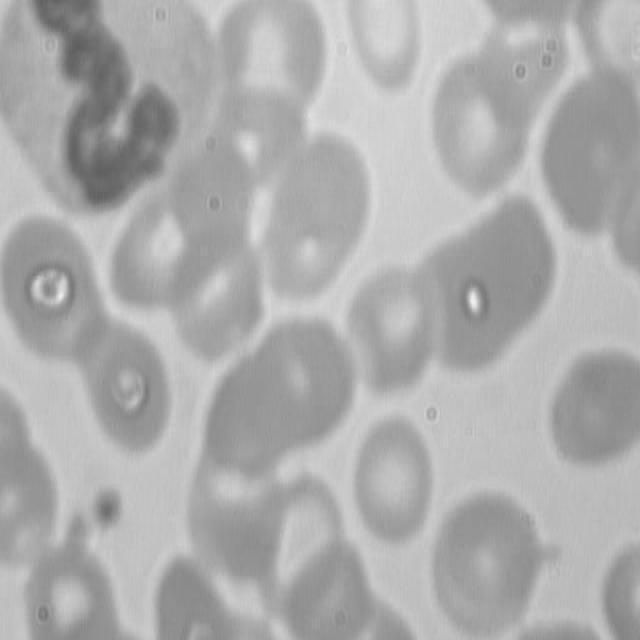Platelets: (90, 481, 128, 535)
RBC: (426, 477, 560, 639), (0, 215, 119, 376), (414, 57, 539, 208), (211, 0, 334, 136), (179, 433, 292, 578), (348, 257, 445, 412), (165, 236, 266, 372), (74, 325, 173, 460), (349, 409, 441, 548), (548, 345, 639, 484), (336, 2, 435, 102)
WBC: (1, 0, 216, 229)
